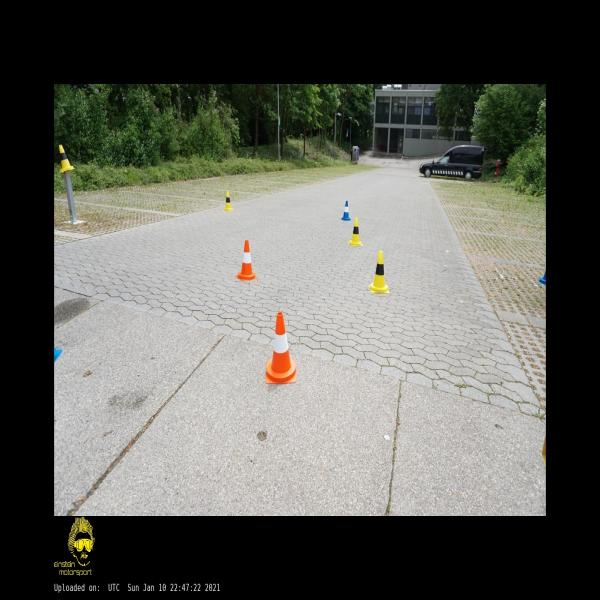blue_cone: (341, 200, 351, 220)
orange_cone: (266, 312, 296, 384), (235, 240, 258, 281)
yellow_cone: (369, 251, 390, 293), (59, 144, 75, 172), (348, 218, 363, 246), (223, 192, 234, 212)
